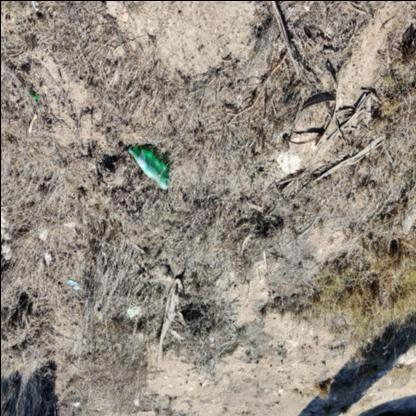Bottle: (127, 144, 130, 152)
Bottle cap: (127, 143, 170, 189)
Other plastic: (27, 94, 39, 100)
Plastic bag - wrapper: (1, 240, 12, 258)
Unlabeled litter: (127, 304, 141, 318), (67, 278, 79, 290)
